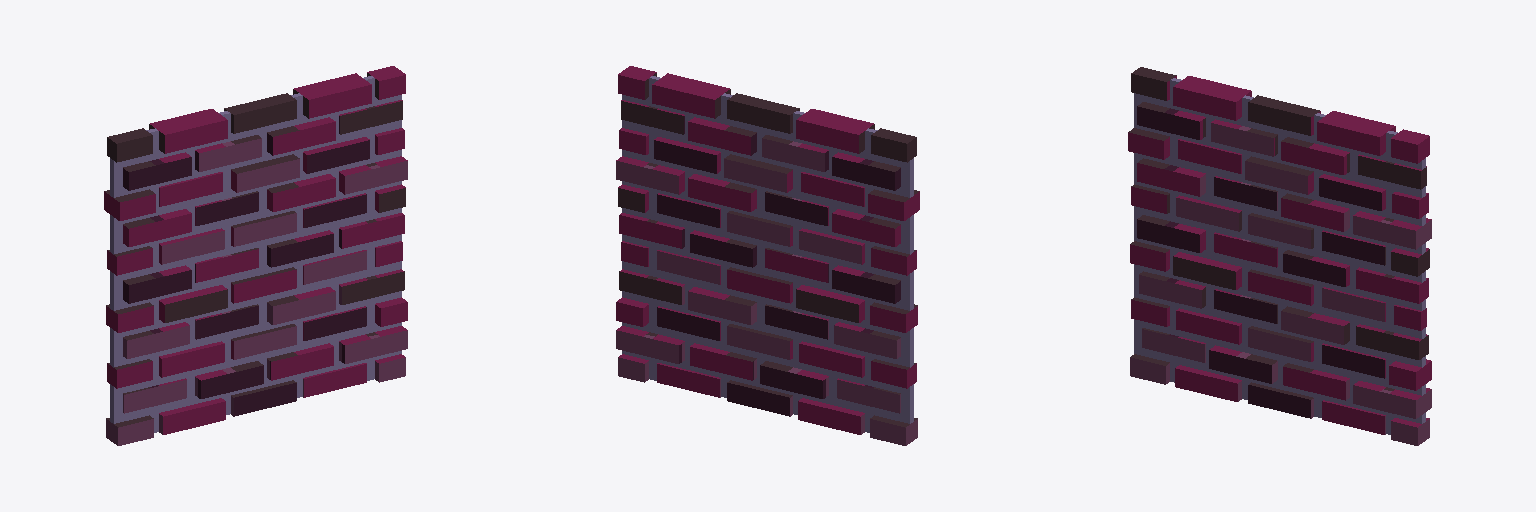
3 views of the same model, side by side, from view 1: azimuth 30°, elevation 25°; view 2: azimuth 150°, elevation 25°; view 3: azimuth 330°, elevation 25° (orthographic).
Bounding box in the file's own units: 32 × 32 × 3.
1 materials, 1 textured.